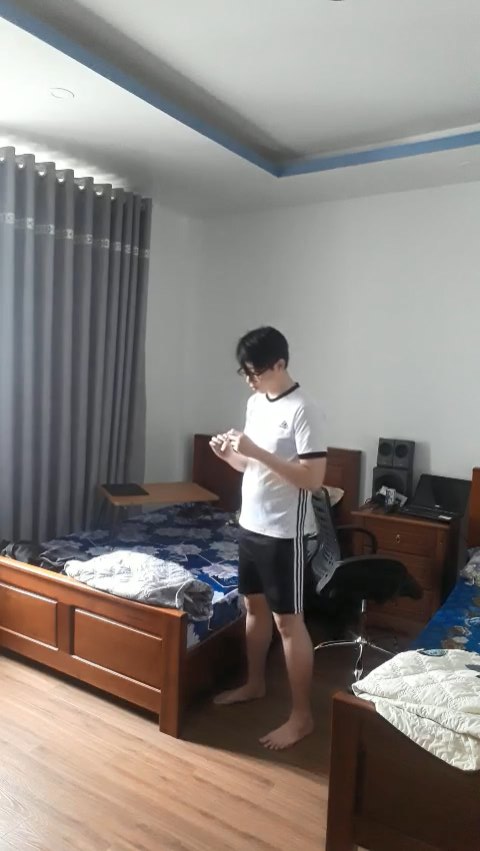cigarette: (219, 440, 230, 452)
person: (216, 321, 330, 760)
